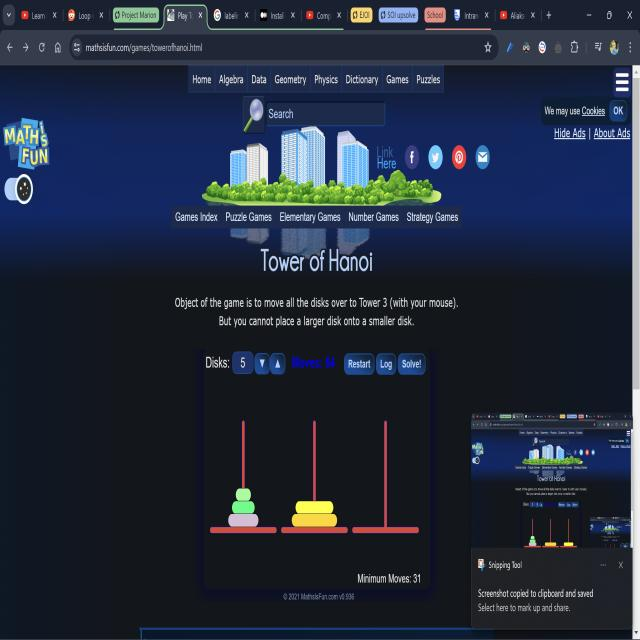disk1: (235, 488, 251, 501)
disk2: (232, 500, 254, 513)
disk3: (228, 514, 258, 526)
disk4: (296, 502, 334, 514)
disk5: (292, 514, 338, 527)
